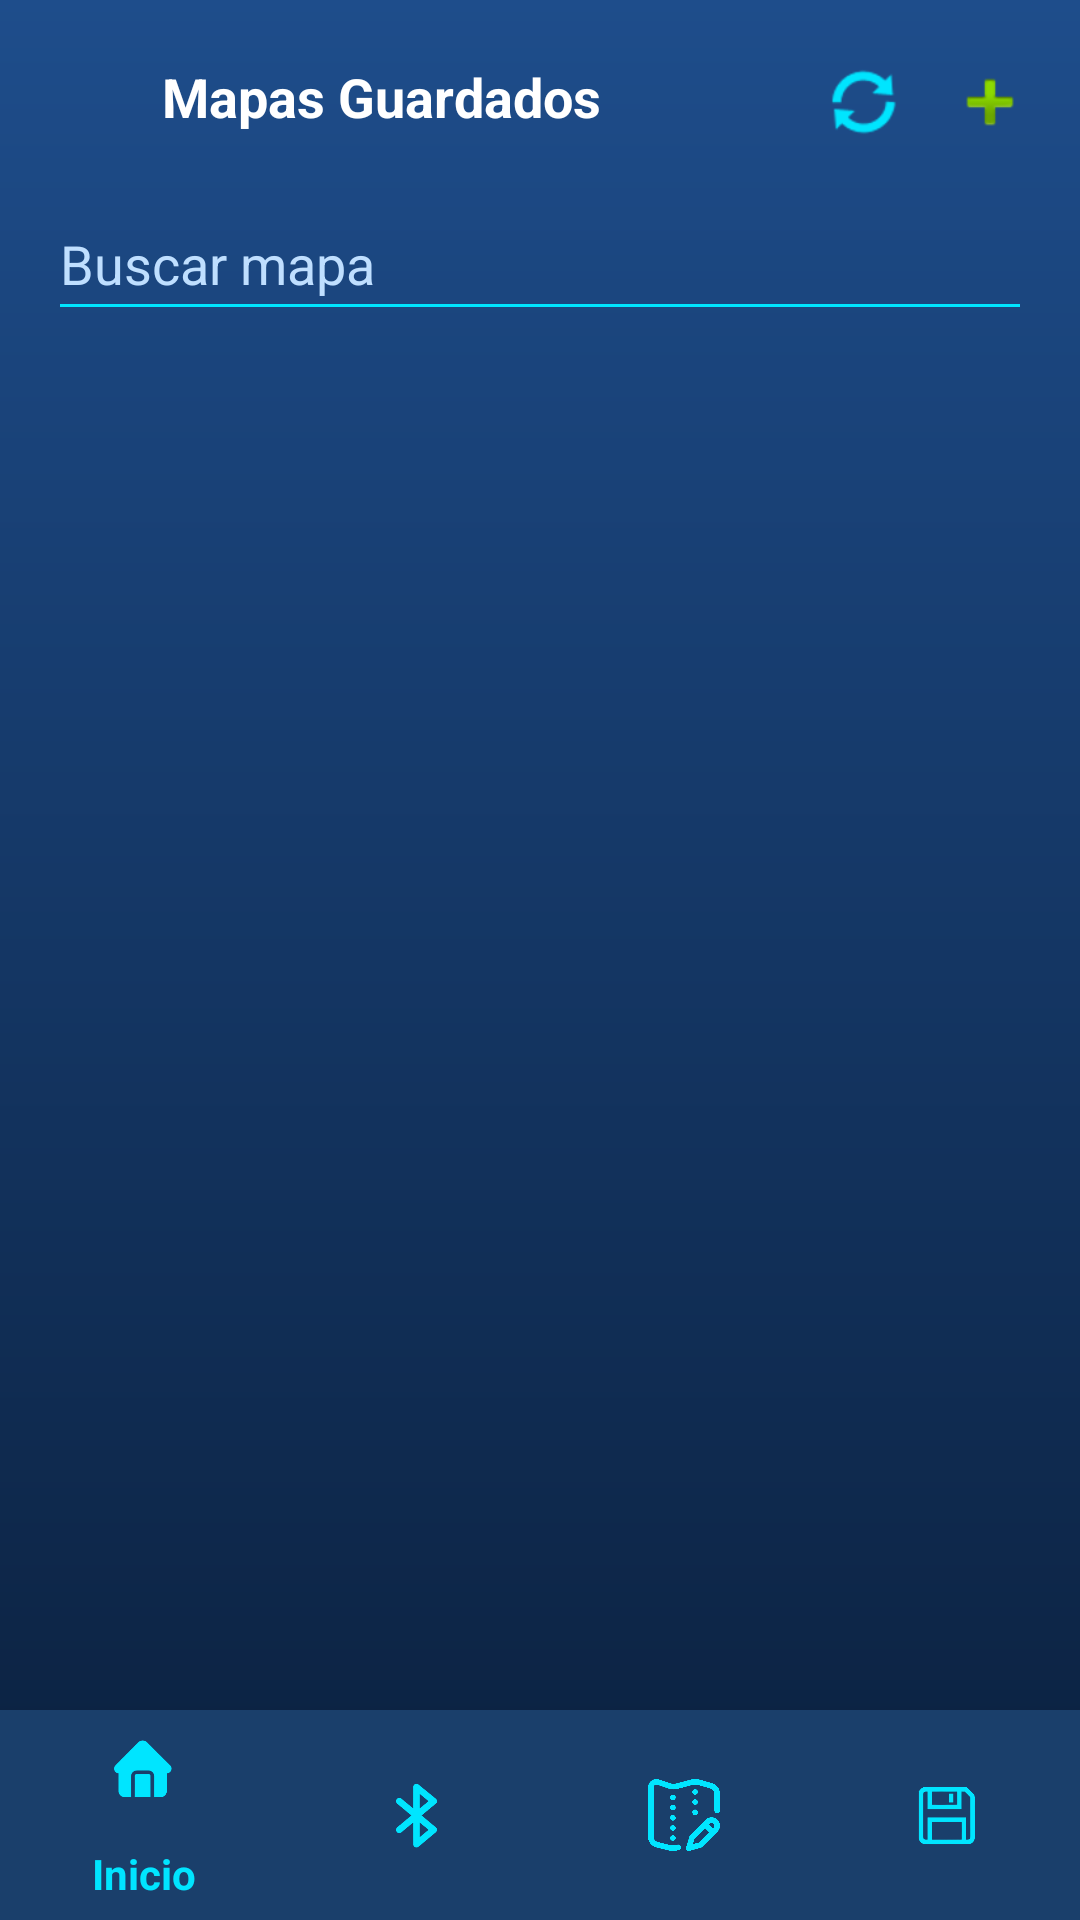

Screen size 1080×1920. Icon name, then its center in pixels as (x=x, y=y):
add: (x=990, y=101)
popup sync: (x=864, y=102)
